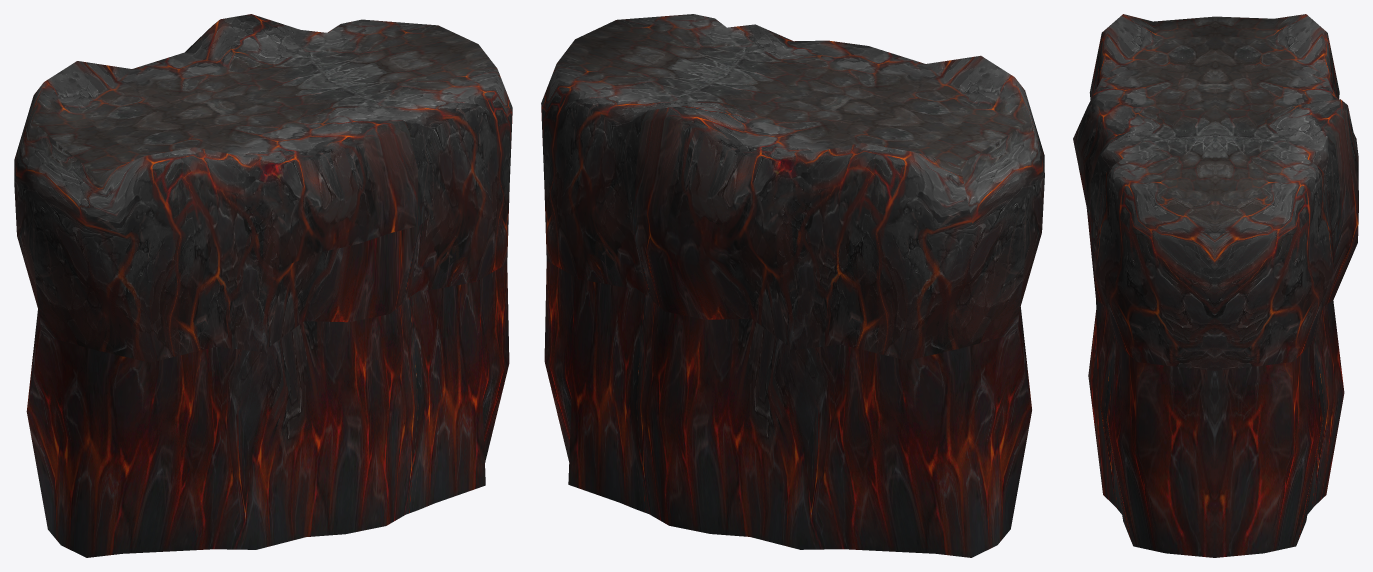
The model's file is 10504_LavaStone06.FBX.
The picture shows the model from 3 angles, left to right: view 1: azimuth 30°, elevation 25°; view 2: azimuth 150°, elevation 25°; view 3: azimuth 270°, elevation 25°; orthographic projection. The views are drawn at different scales.
Parts seen in each view (by area): view 1: 10504_LavaStone06; view 2: 10504_LavaStone06; view 3: 10504_LavaStone06.
Part boxes in pixels (x1=…): 10504_LavaStone06: x1=14, y1=14, x2=512, y2=557; 10504_LavaStone06: x1=541, y1=14, x2=1044, y2=557; 10504_LavaStone06: x1=1073, y1=14, x2=1358, y2=557.
Bounding box in the file's own units: 1338 × 1179 × 791.
